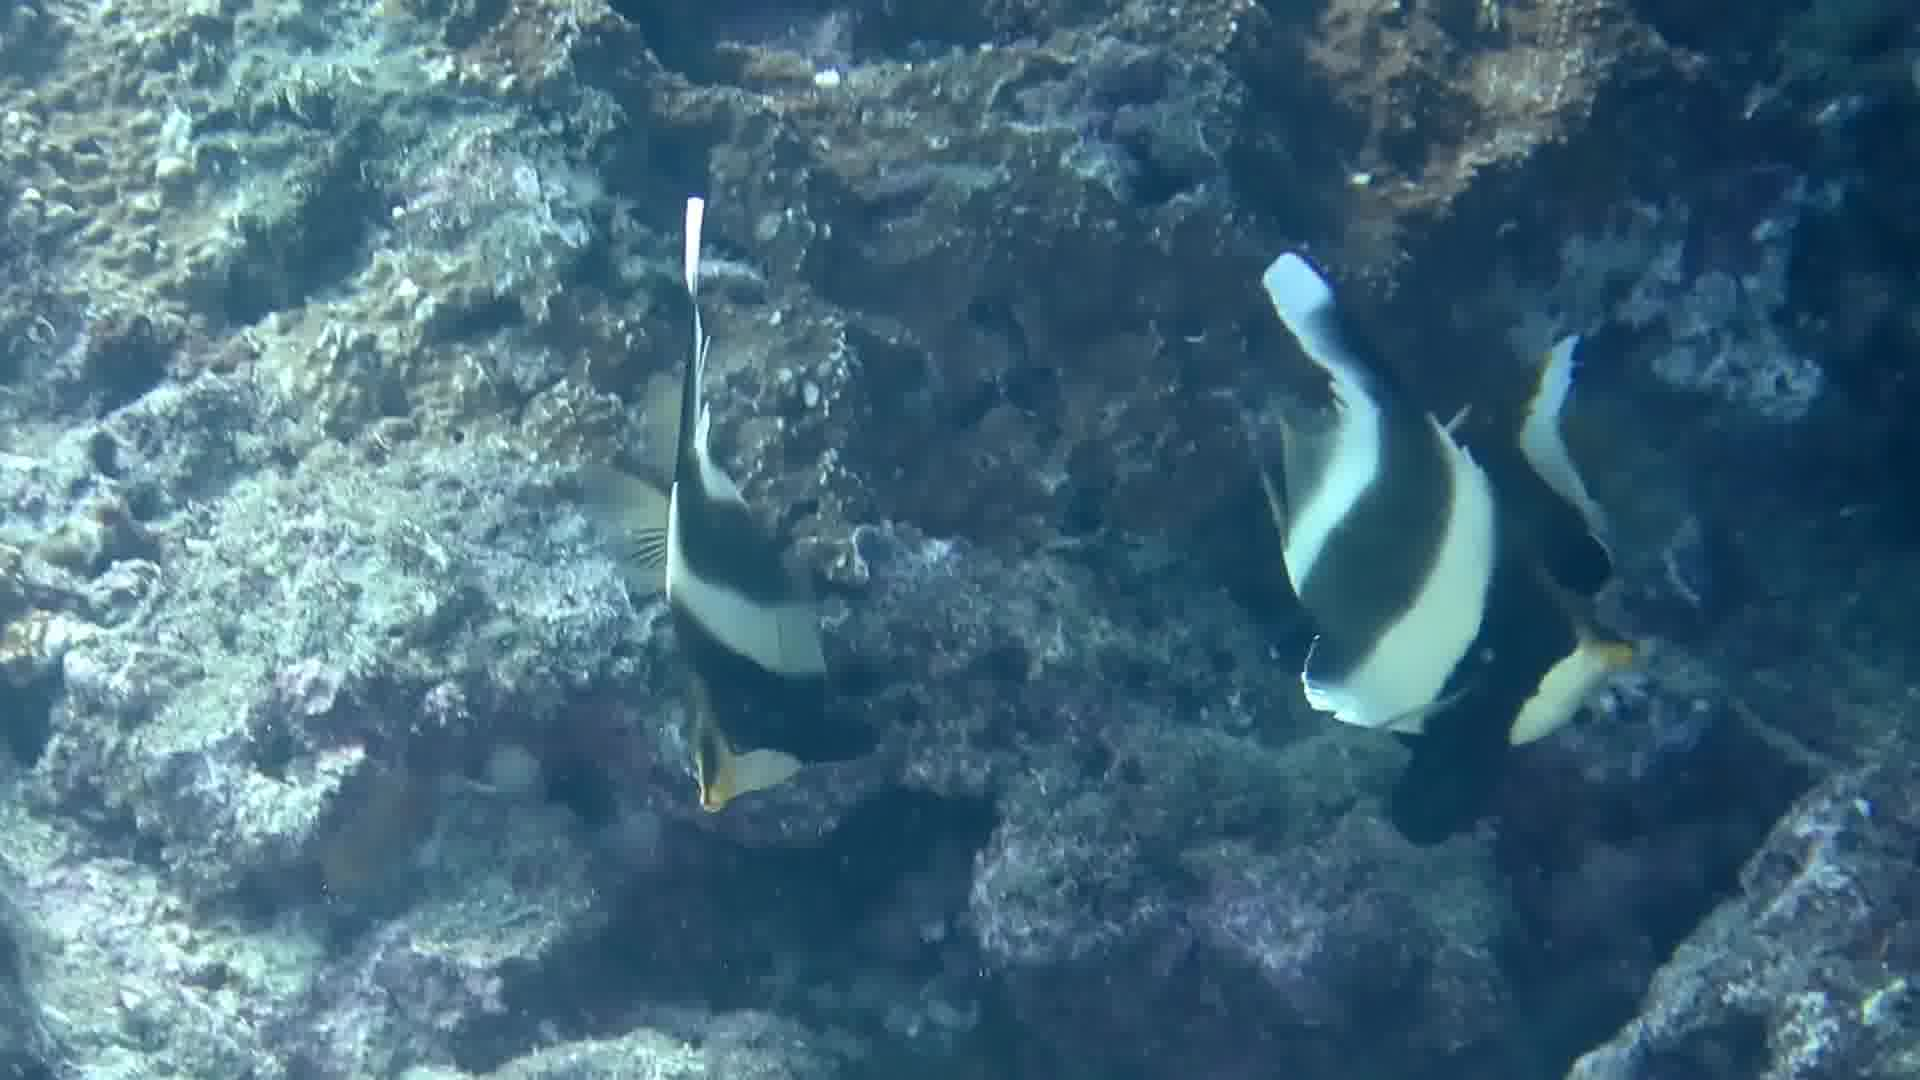Heniochus chrysostomus: (525, 113, 1014, 858), (1185, 142, 1673, 887)
